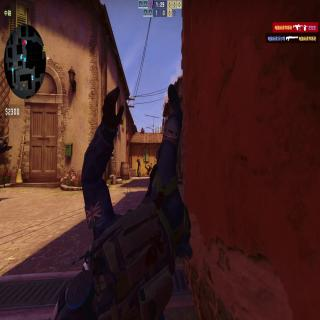T-Body: (136, 156, 141, 177)
T-Head: (137, 156, 140, 160)
